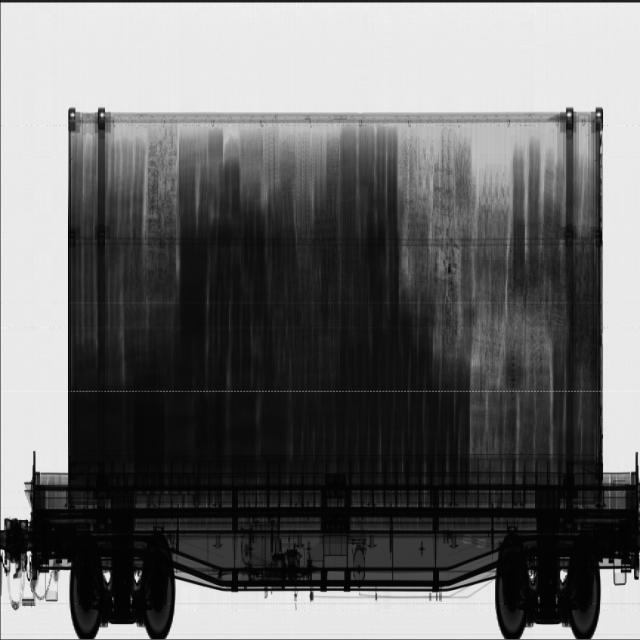clothes: (180, 155, 303, 382)
textiles: (399, 129, 553, 451)
